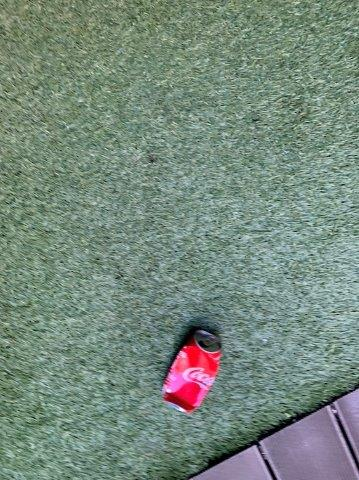kaleng: (164, 331, 223, 412)
